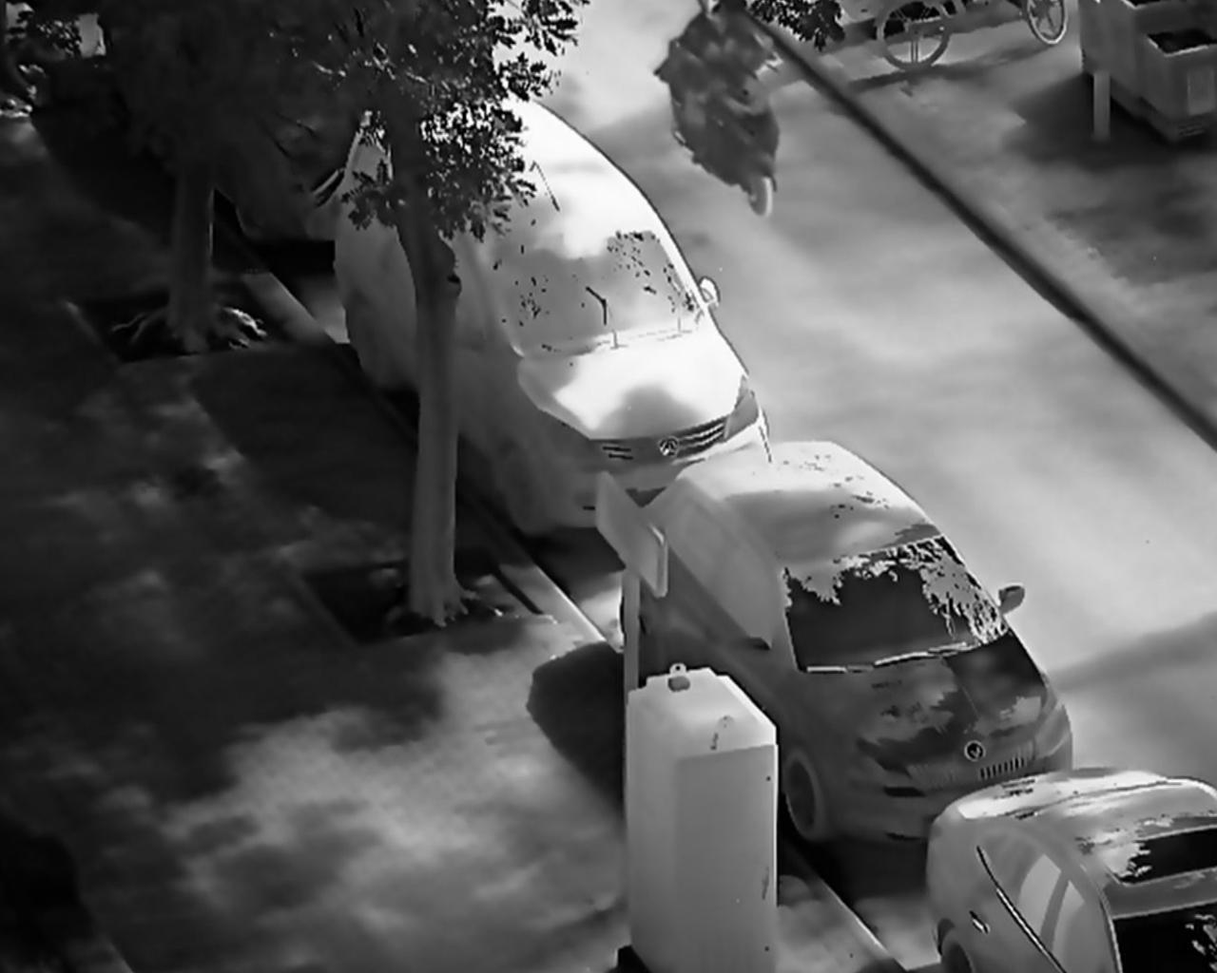person: (671, 2, 782, 158)
